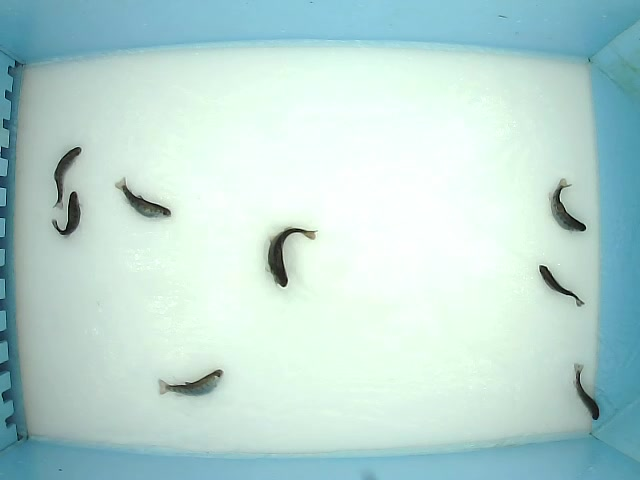fish: (265, 225, 319, 289), (113, 176, 172, 219), (546, 176, 588, 235), (538, 263, 586, 309), (52, 146, 83, 209), (157, 368, 224, 397), (573, 362, 600, 421), (51, 190, 81, 239)
